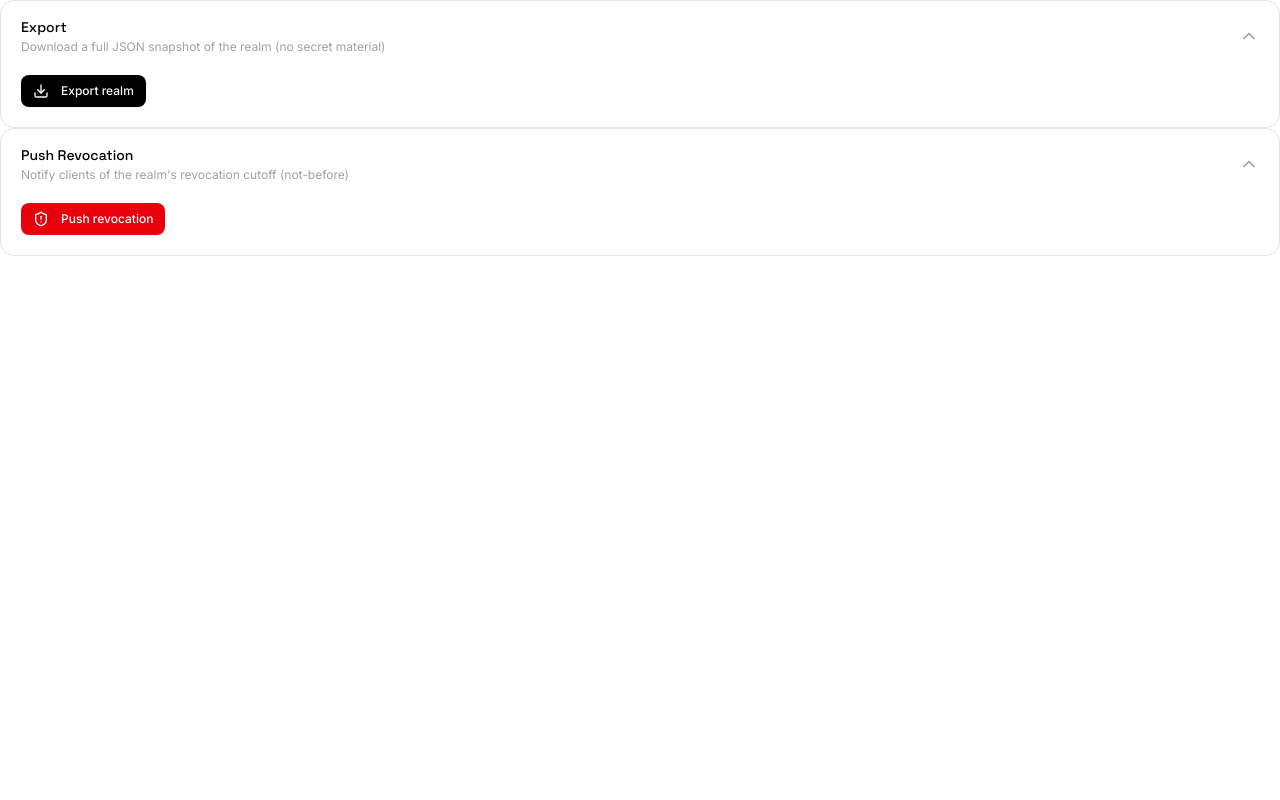
RealmActionsSection › pushes revocation only after confirmation
Click the button "Push revocation" at (93, 219), box [21, 203, 165, 235]
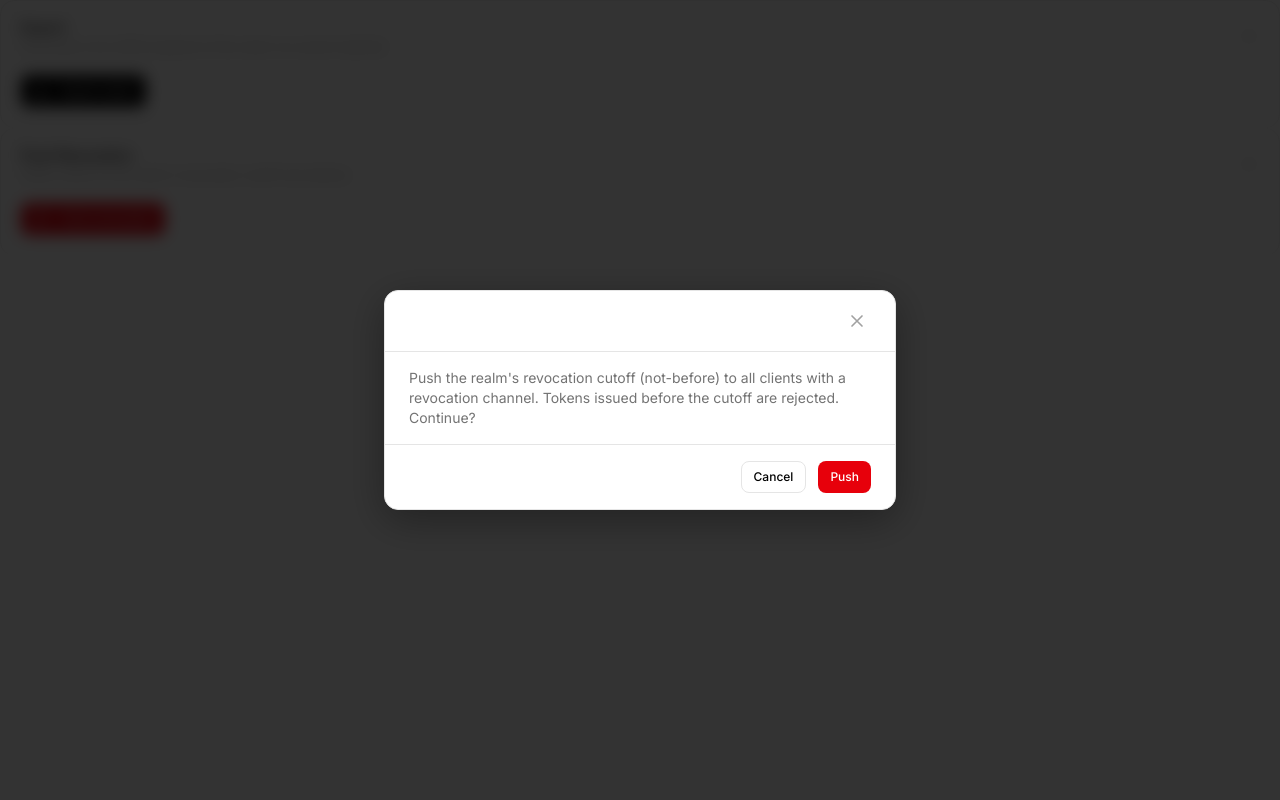
Click the button "Push" at (845, 477), box [818, 461, 871, 493]
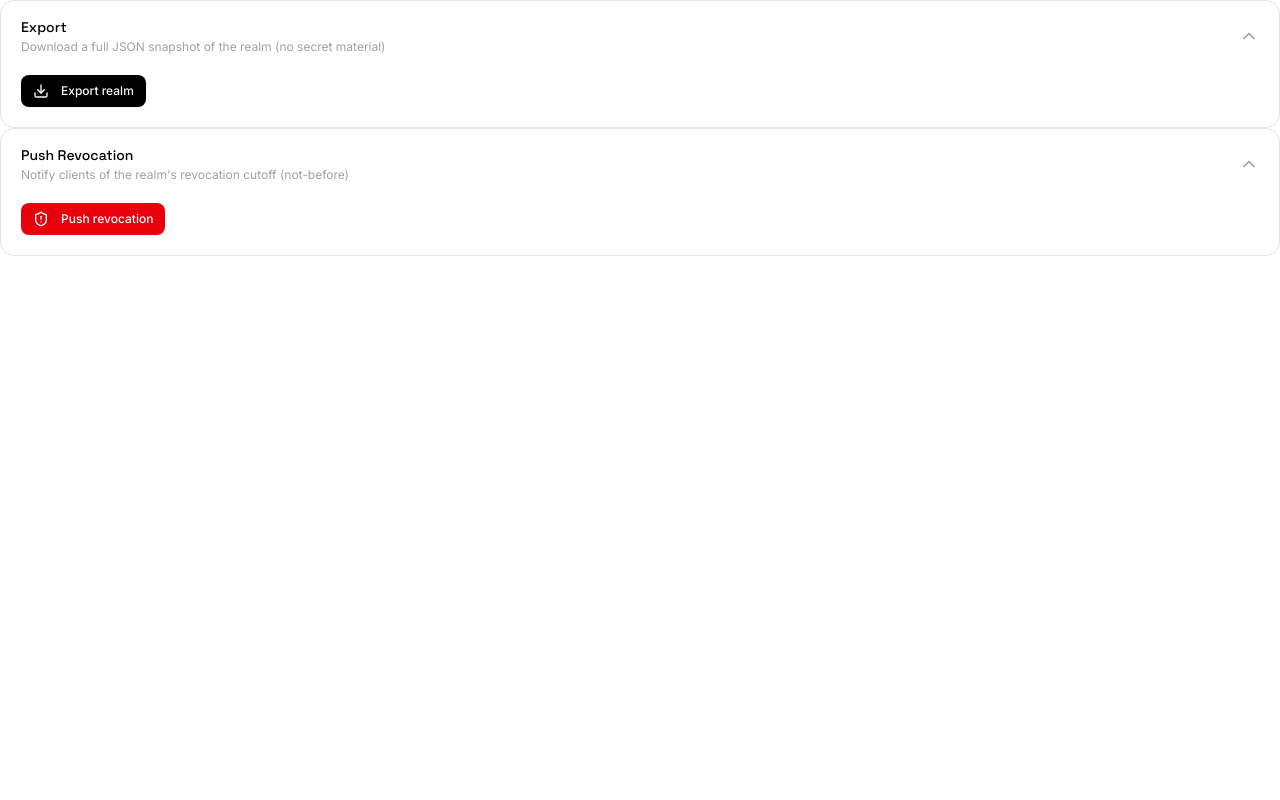
Expected: the dialog is gone
